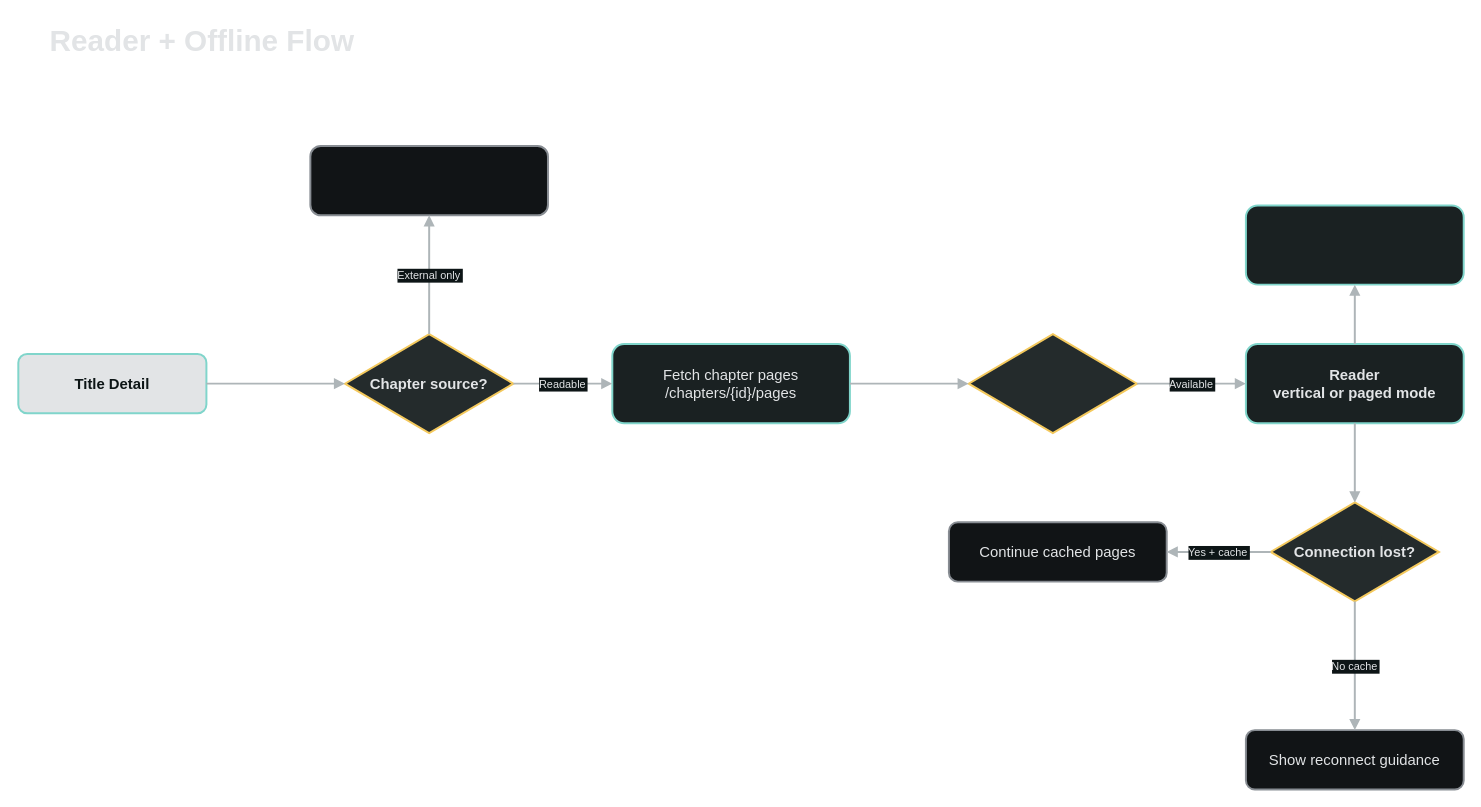
Image size: 1481x807. Some labels were removed from this diagram. The box of each missing label's shape, as (x1, y1, x2, y2) in pixels:
Local page cache?: (967, 333, 1138, 434)
Open official / external source: (309, 145, 548, 216)
Reader Settings mode + language overrides: (1244, 204, 1464, 285)
